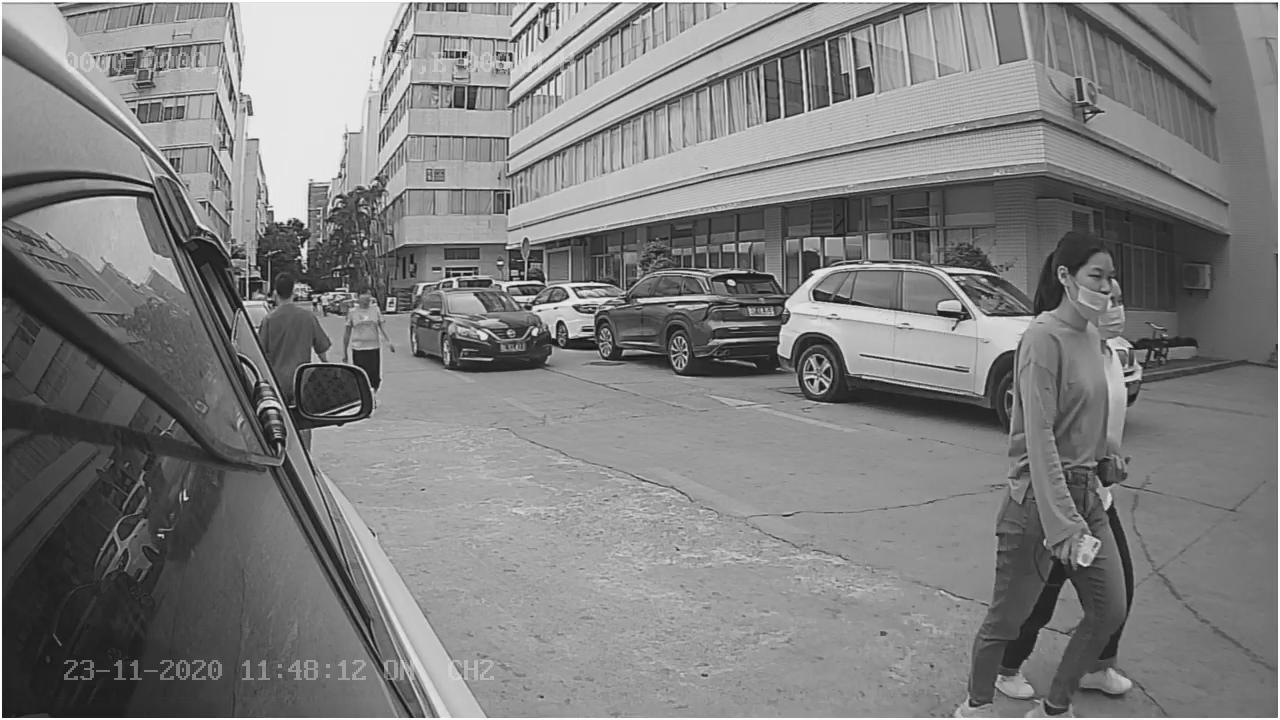person: (996, 230, 1150, 578)
